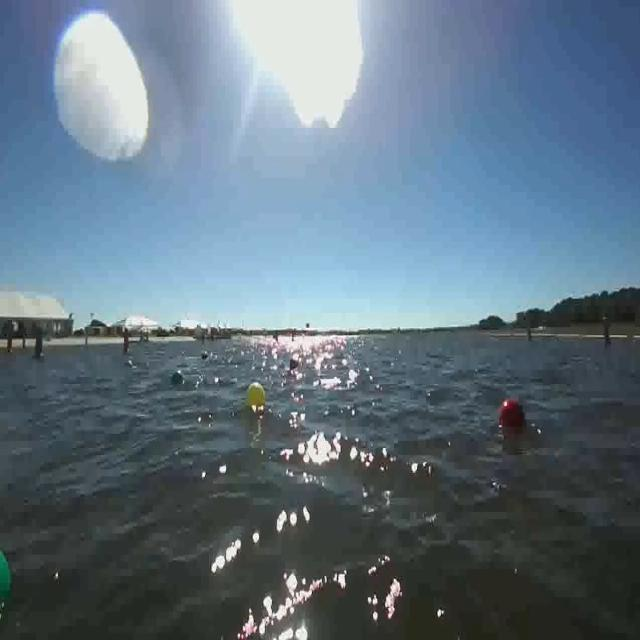green-buoy: (0, 545, 13, 602)
red-buoy: (494, 400, 525, 430)
yellow-buoy: (250, 378, 268, 411)
